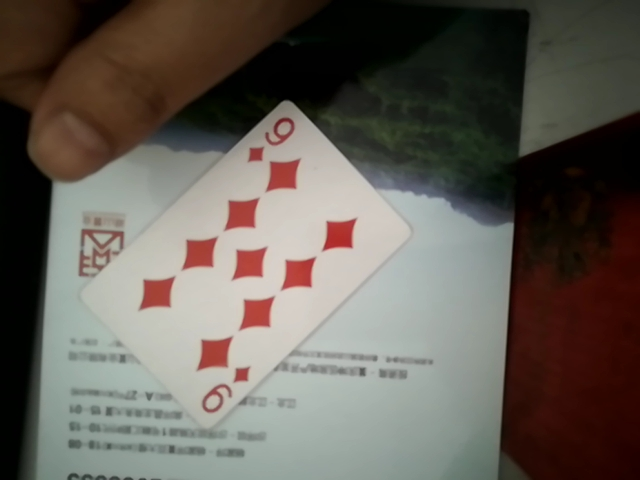fk 9: (69, 106, 409, 415)
